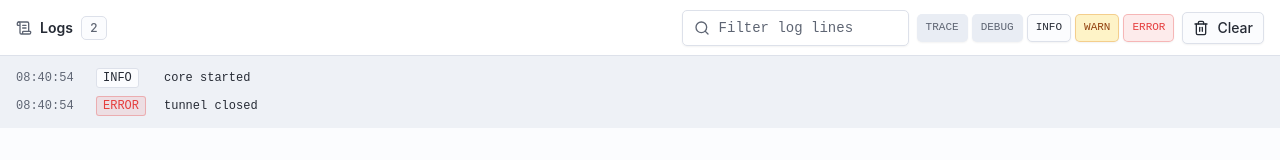
LogsScreen › hides a level when its filter chip is toggled off
What coordinates should you click on to do the following:
click the button with aria-label "Toggle error logs"
I would click on:
 (1149, 28)
Its box is [1124,14,1174,42].
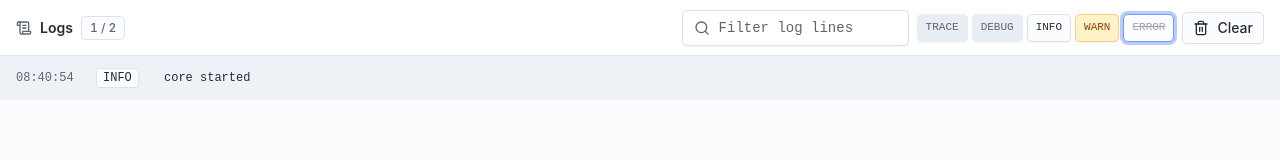
expect the text "core started" is shown: met, box [164,71,250,85]
expect the text "tunnel closed" is gone: met
